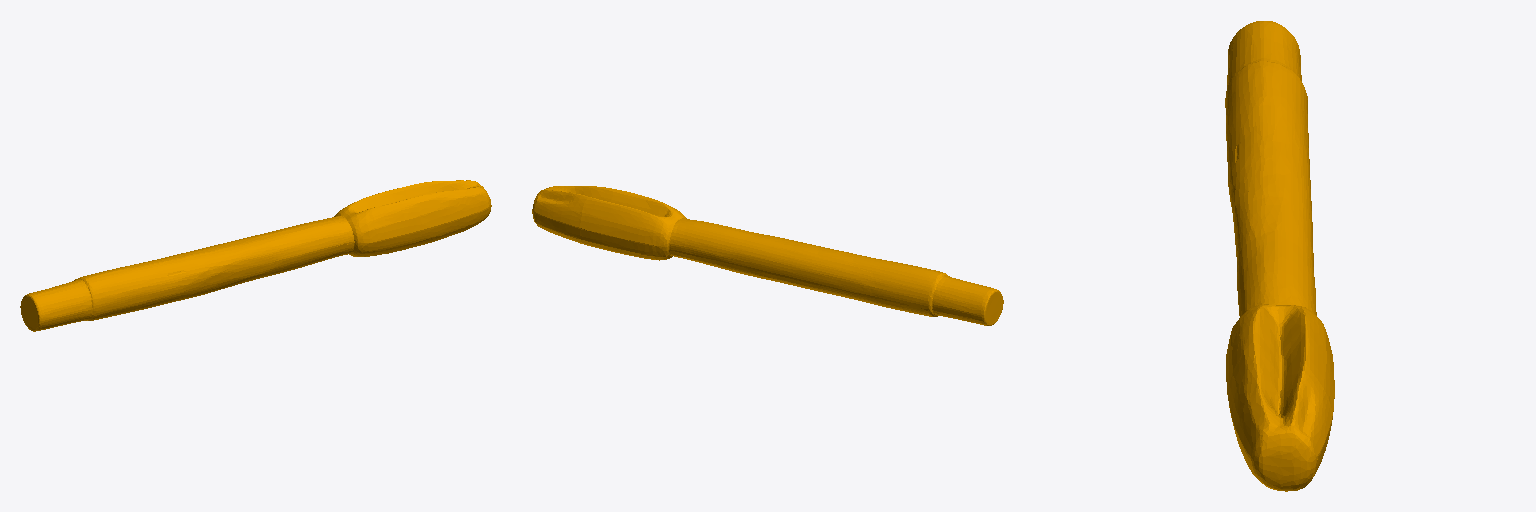
The robot description file, URDF, robot "sample":
<?xml version="1.0" ?>
<robot name="sample">
   <link name="sample">
      <visual>
         <origin xyz="0 0 0" rpy="1.5708 0.0 0.0"/>
         <geometry>
            <mesh filename="mesh/sample.obj" scale="1.0 1.0 1.0"/>
         </geometry>
      </visual>
      <collision>
         <origin xyz="0 0 0" rpy="1.5708 0.0 0.0"/>
         <geometry>
            <mesh filename="mesh/sample_collision.obj" scale="1.0 1.0 1.0"/>
         </geometry>
         <gazebo>
            <mu1>0.50</mu1>
            <mu2>0.40</mu2>
         </gazebo>
      </collision>
      <inertial>
         <mass value="0.0150"/>
         <origin xyz="0 0 0"/>
         <inertia ixx="1.0" ixy="0.0" ixz="0.0" iyy="1.0" iyz="0.0" izz="1.0"/>
      </inertial>
      <extra_info>
         <scale>0.204880</scale>
         <version>v0.1.7</version>
         <category>yellow marker</category>
         <description>yellow-capped marker with white barrel and colorful label</description>
         <min_height>0.018</min_height>
         <max_height>0.025</max_height>
         <real_height>0.0215</real_height>
         <min_mass>0.01</min_mass>
         <max_mass>0.02</max_mass>
         <generate_time>20260403090718</generate_time>
         <gs_model>mesh/sample_gs.ply</gs_model>
      </extra_info>
   </link>
   <custom_data>
      <quality>
         <MeshGeoChecker>YES</MeshGeoChecker>
         <ImageSegChecker>NO, object is not centered and background artifacts are present.</ImageSegChecker>
         <ImageAestheticChecker>4.443572044372559</ImageAestheticChecker>
         <overall>NO</overall>
      </quality>
   </custom_data>
</robot>

--- What the picture shows (computed from the rendered views, not written in the file) ---
The picture shows the robot from 3 angles, left to right: view 1: azimuth 30°, elevation 25°; view 2: azimuth 150°, elevation 25°; view 3: azimuth 270°, elevation 25°; orthographic projection.
Model sample with 1 links and 0 joints (none), rooted at sample, posed every joint at zero.
Visible links, largest first — view 1: sample; view 2: sample; view 3: sample.
Boxes of the visible links, x1,y1,x2,y2 form: sample: (20,180,491,331); sample: (532,186,1003,325); sample: (1225,21,1334,491).
Bounding box of the posed robot: 0.2049 × 0.0232 × 0.0215 m (x, y, z).
1 mesh visuals loaded from 1 distinct referenced files (1 OBJ).
